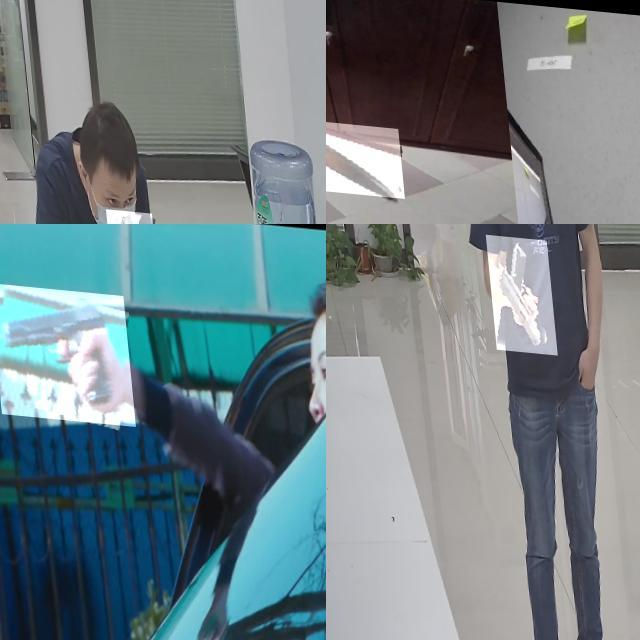-: (326, 113, 400, 195)
gun-knife-thesis - v11 Yolov5 augmented: (0, 281, 129, 423), (482, 230, 551, 350), (101, 202, 153, 224)
